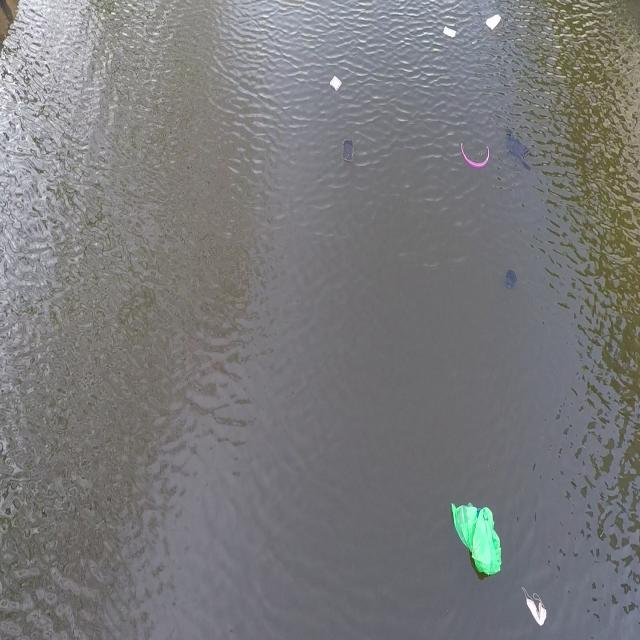Autre plastique: (342, 138, 356, 169), (328, 73, 342, 94)
Non plastique: (522, 579, 554, 628)
